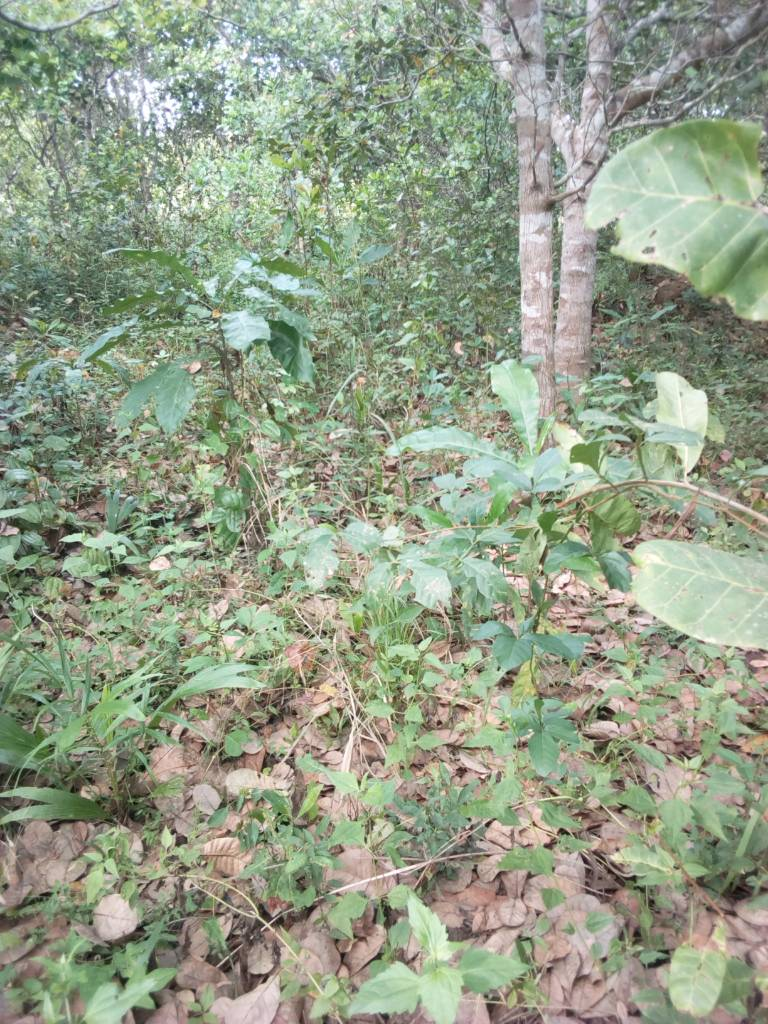Anoplocnemis curvipes: (596, 116, 768, 313)
